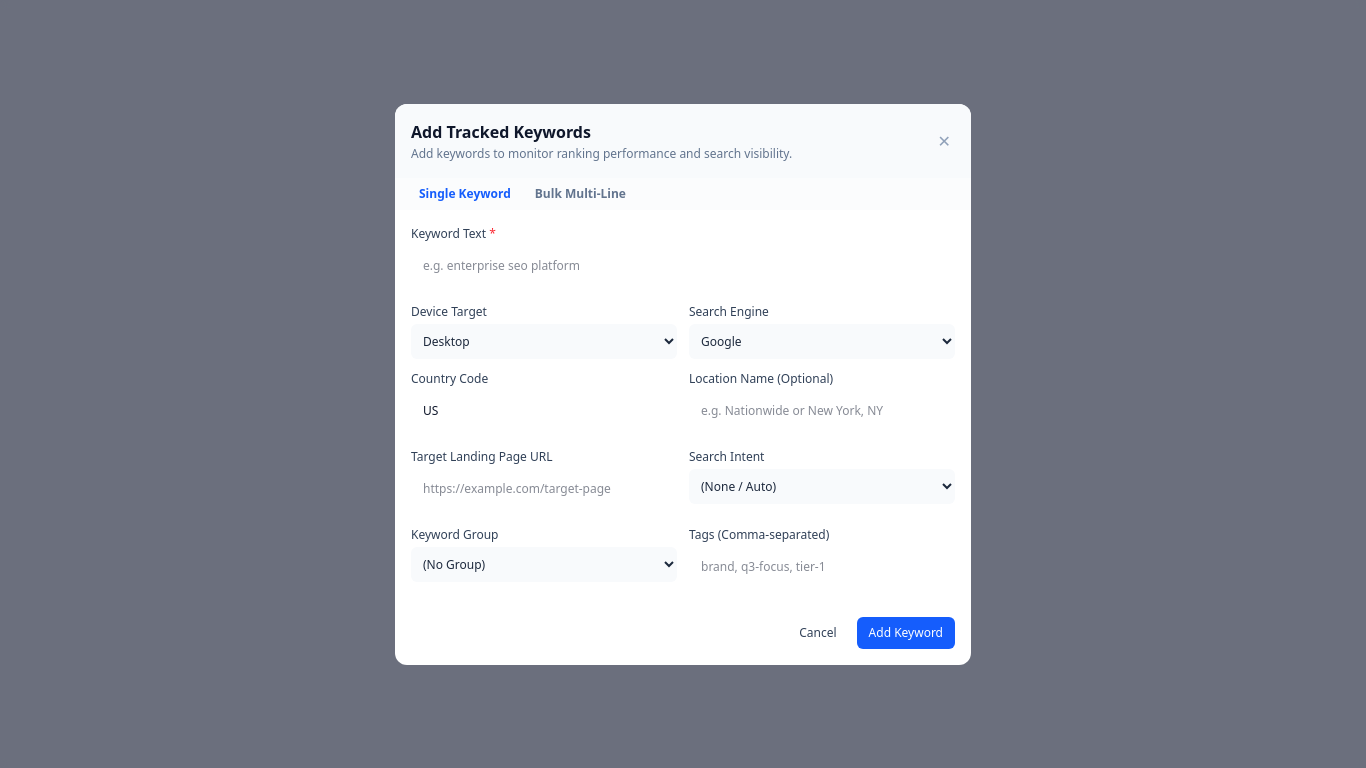
Scenario: AddKeywordModal Component › switches to Bulk Multi-Line tab and shows multi-line textarea
Click the button "Bulk Multi-Line": (580, 198) [527,186,634,210]
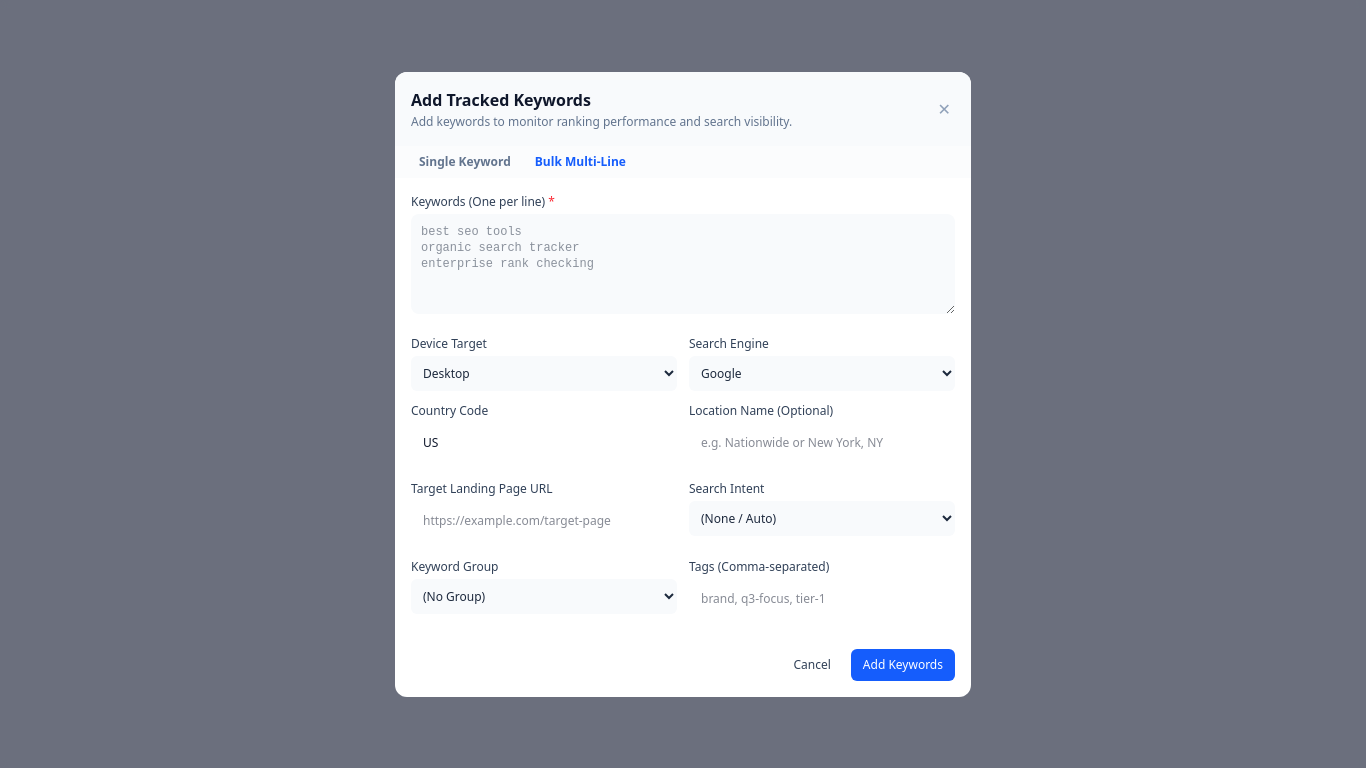
Check: the text box labelled "Keywords (One per line) *" is shown, box [411,214,955,314]
